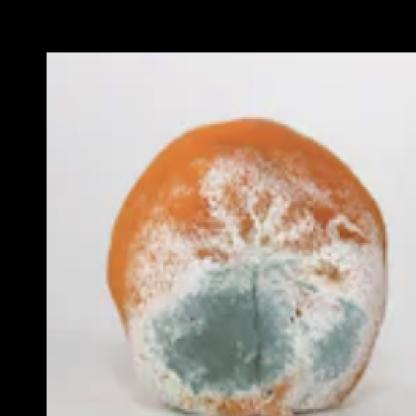rotten: (108, 118, 388, 416)
